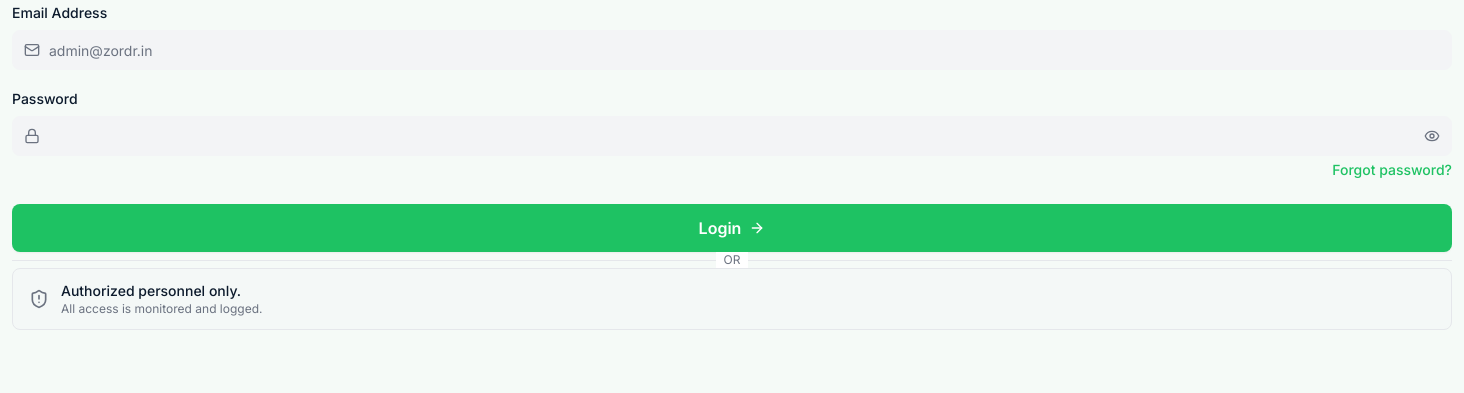
Test: LoginForm › Error states › shows generic error message on 401
Type "wrong@example.com" into the field labelled "Email Address" at (732, 50), box [12,30,1452,70]
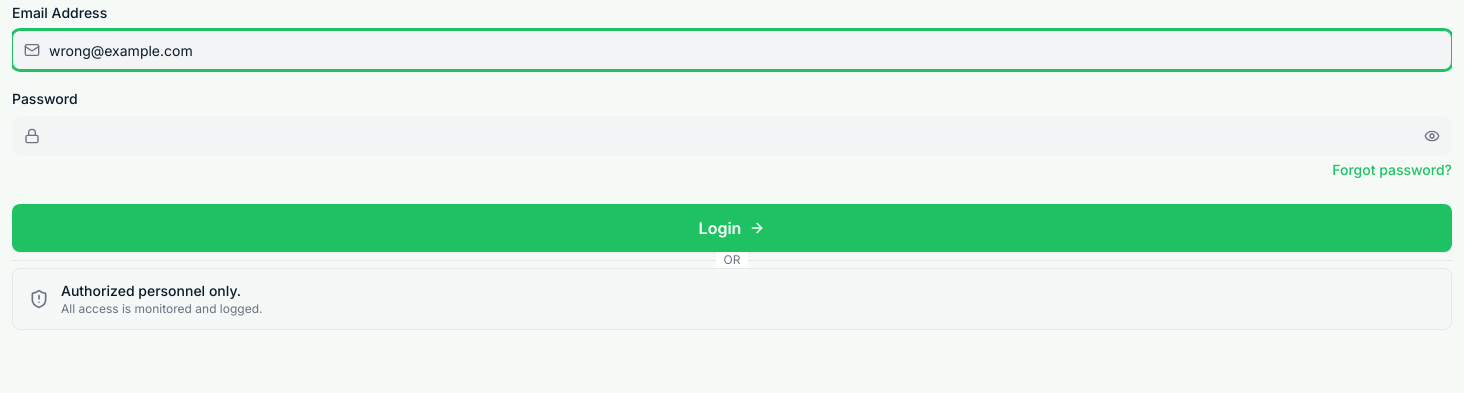
Type "WrongPass1" into the password field labelled "Password" at (732, 136), box [12,116,1452,156]
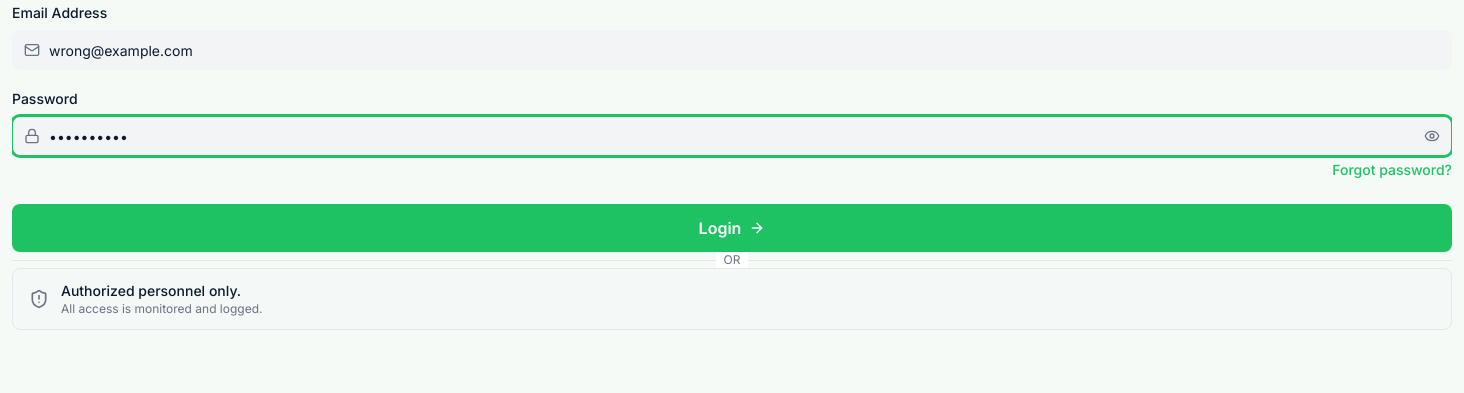
Click the button "Login" at (732, 228), box [12,204,1452,252]
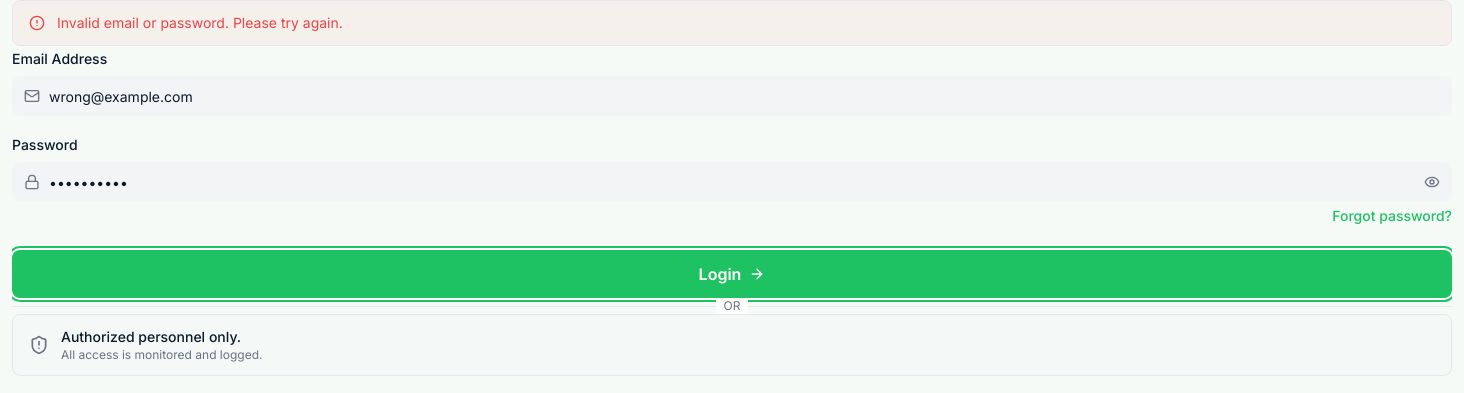
Check: the message shows "Invalid email or password", box [57,14,343,31]
